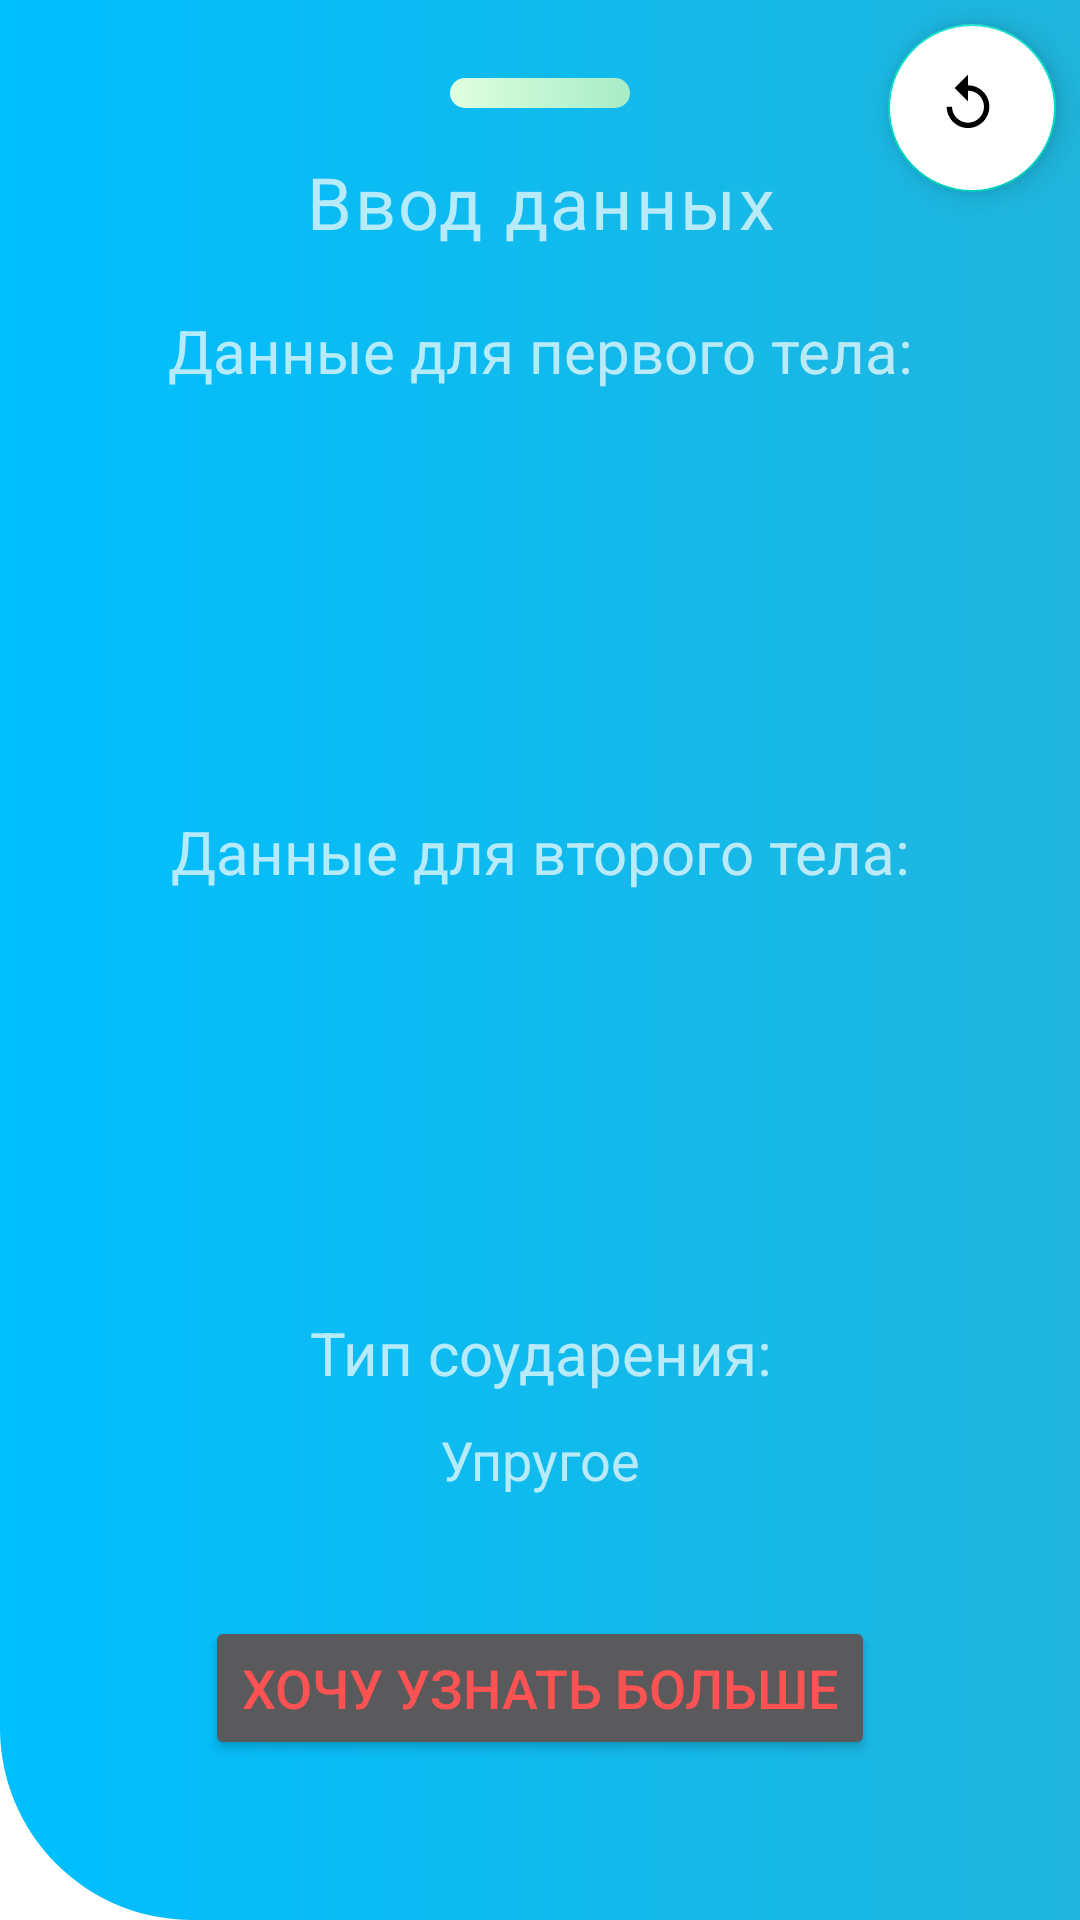

Icon click points for this 1080px×1920px phone screenshot, format point (x, y):
replay: point (972, 108)
